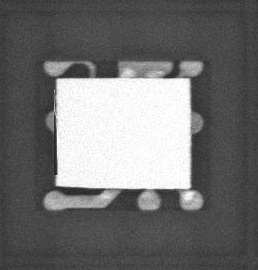DIE_BROKEN: (52, 117, 58, 176)
